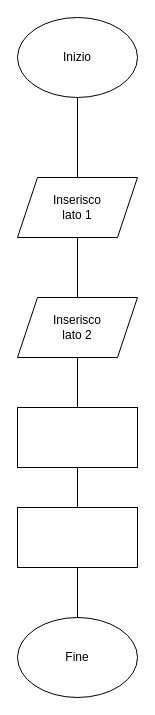
Some shapes in this 155 by 715 pixel diagram are drawn without their labels. The shapes that lost their labels are listed below. From the top down, each one's centre as x and y in pixels, then its label:
At point 77,437: "Lato 1 moltiplicato per lato 2".
At point 77,537: "stampo risultato".
